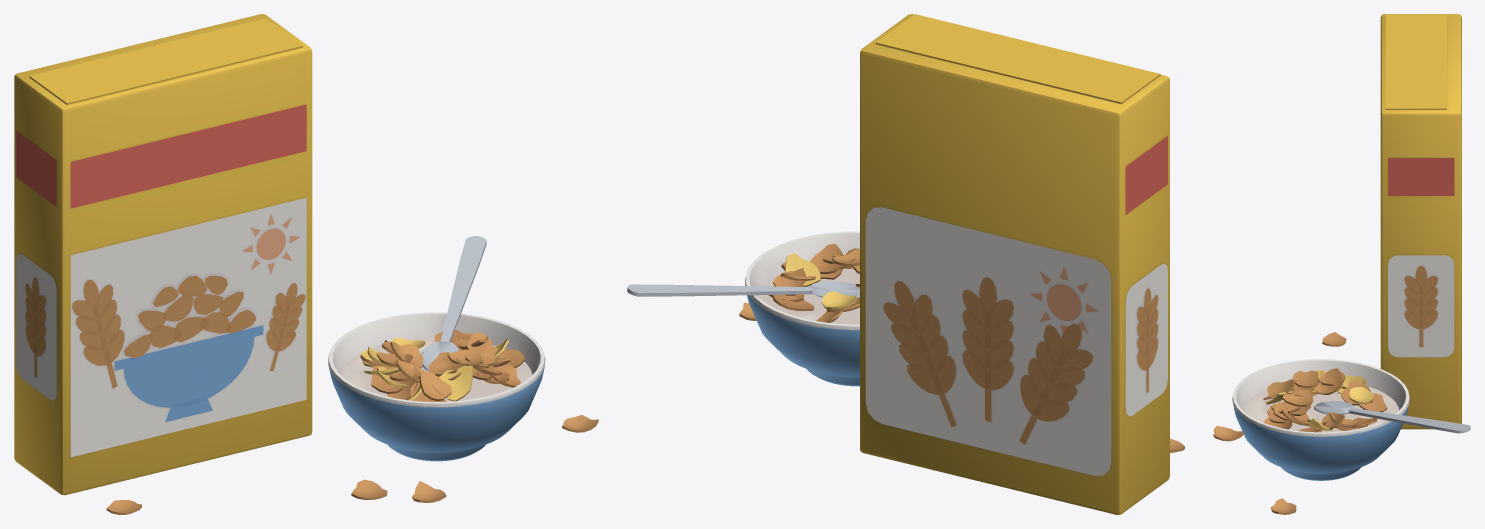
File: cereal-box.glb
3 views of the same model, side by side, from view 1: azimuth 30°, elevation 25°; view 2: azimuth 150°, elevation 25°; view 3: azimuth 270°, elevation 25° (orthographic). The views are drawn at different scales.
Visible parts, largest first — view 1: cereal-box_body; view 2: cereal-box_body; view 3: cereal-box_body.
Boxes of the visible parts, x1,y1,x2,y2 form: cereal-box_body: (14, 14, 598, 514); cereal-box_body: (627, 14, 1184, 514); cereal-box_body: (1213, 14, 1470, 514).
Bounding box in the file's own units: 0.3586 × 0.2812 × 0.2055.
1 material, 1 textured.
